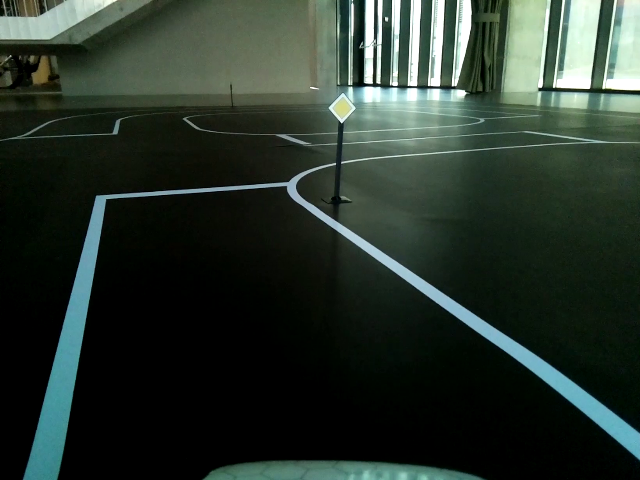priority: (327, 92, 357, 124)
